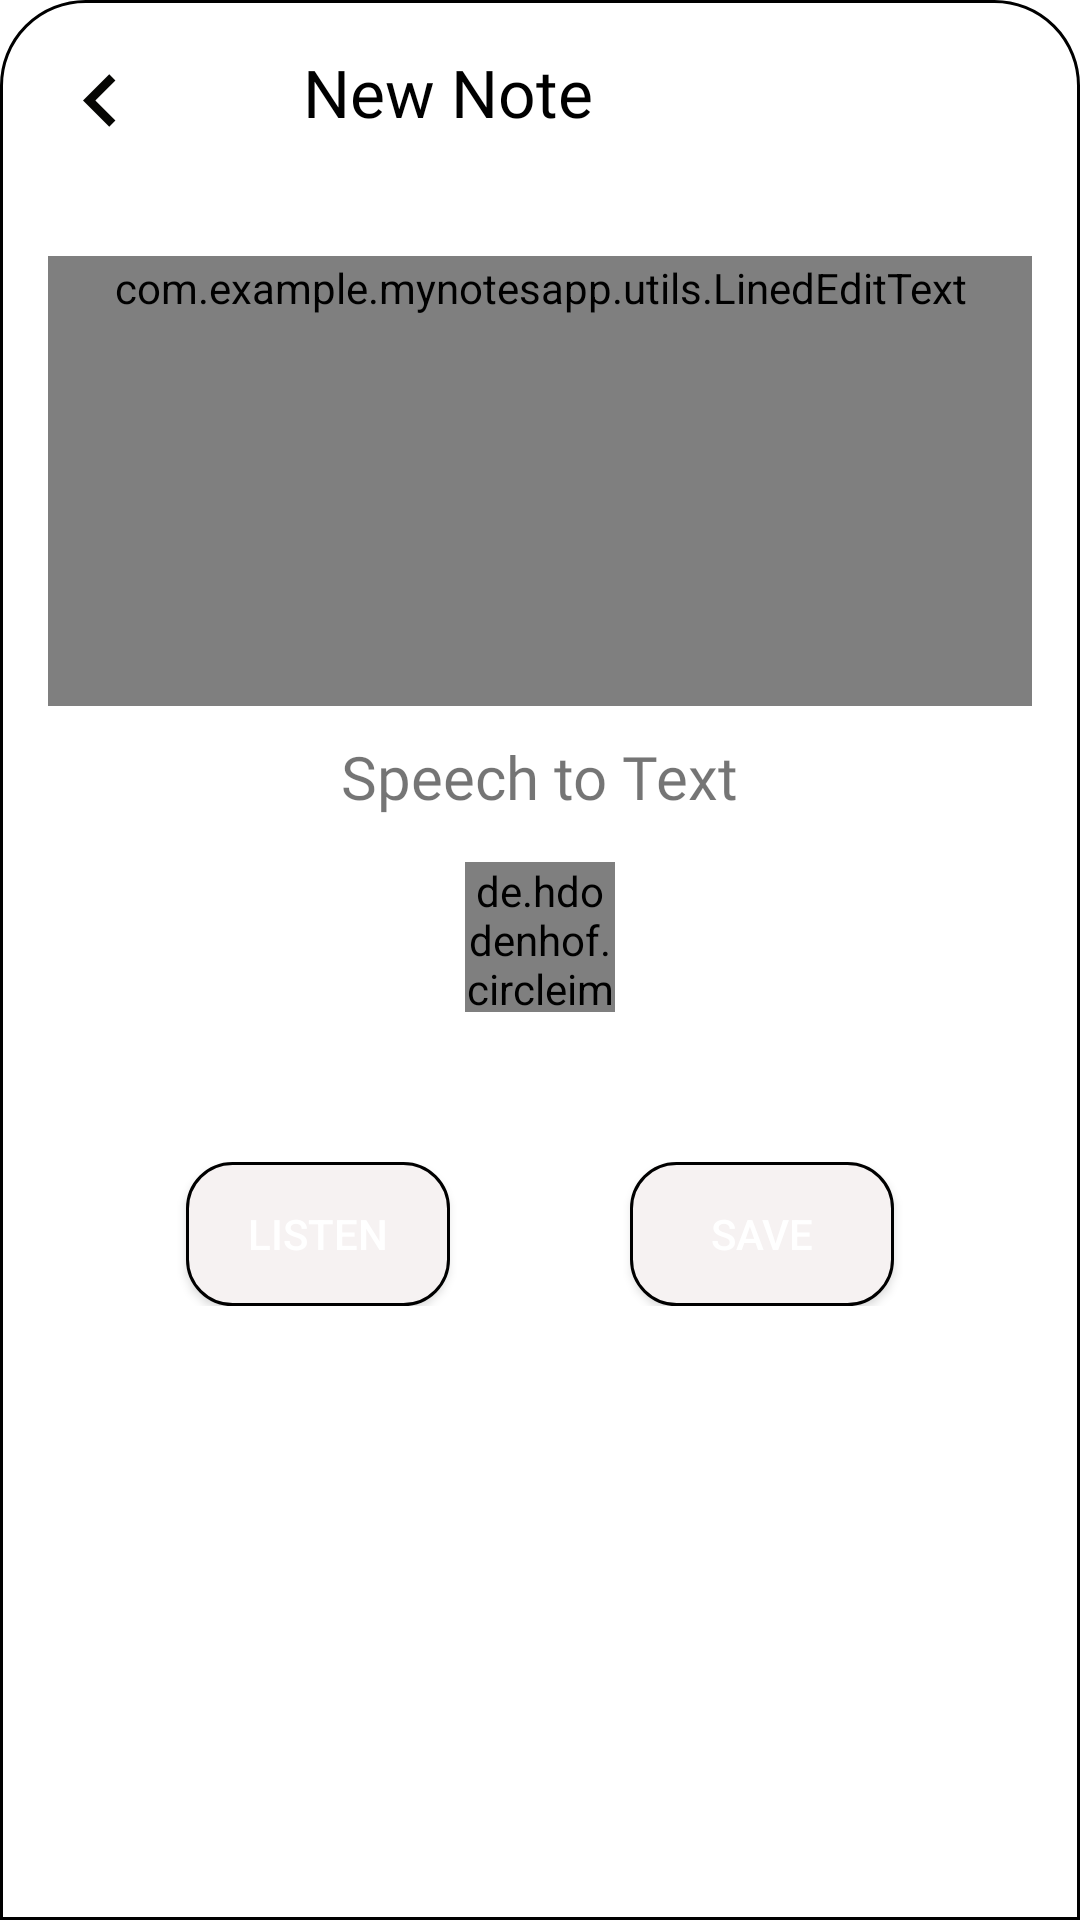

Icons on this 1080px×1920px Android screen, each with its box as (x1, y1, x2, y2):
keyboard arrow left: (83, 74, 116, 127)
